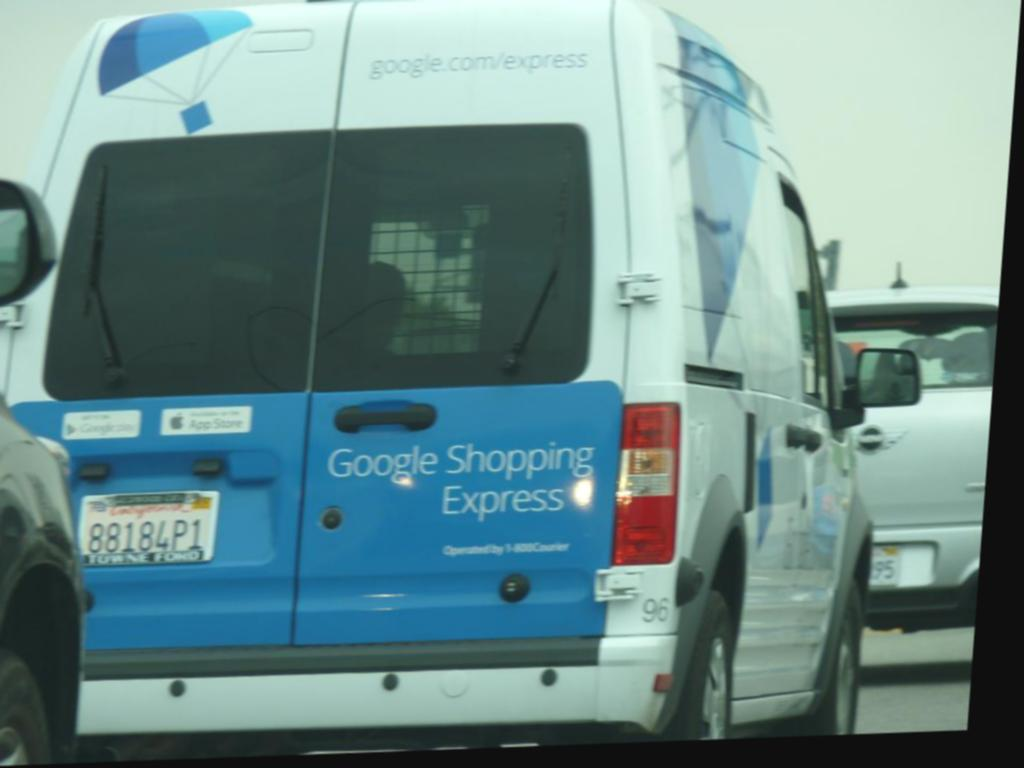License_Plate: (74, 488, 219, 571), (869, 544, 905, 587)
